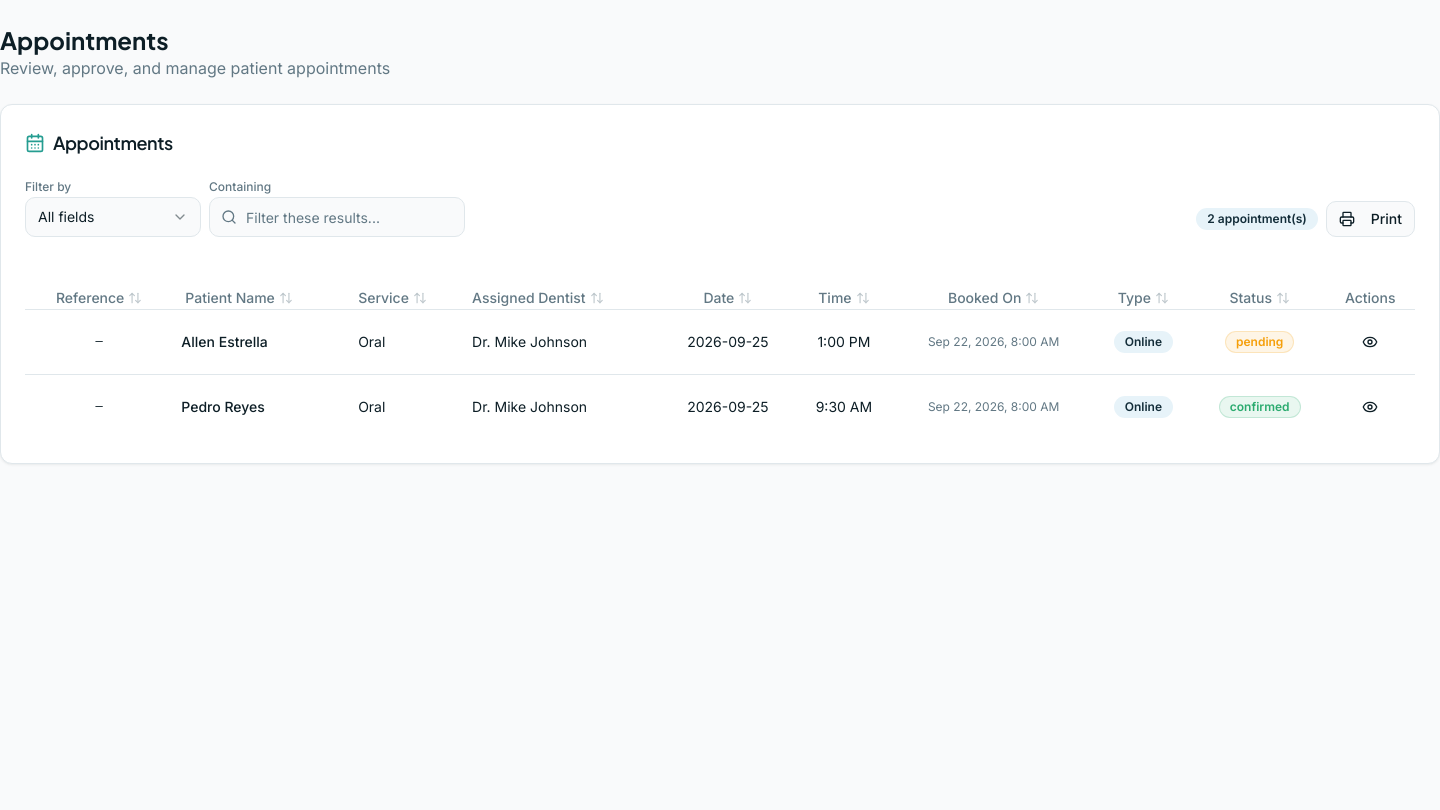
it: admin approve / reject › offers Confirm and Reject inside the View dialog of a pending booking
This screenshot has width=1440, height=810.
Expected: the text "Allen Estrella" is shown, [173,309,350,374]
Click the button named "View" in the row of "Allen Estrella". click: (1370, 342)
box: [1354,326,1386,358]
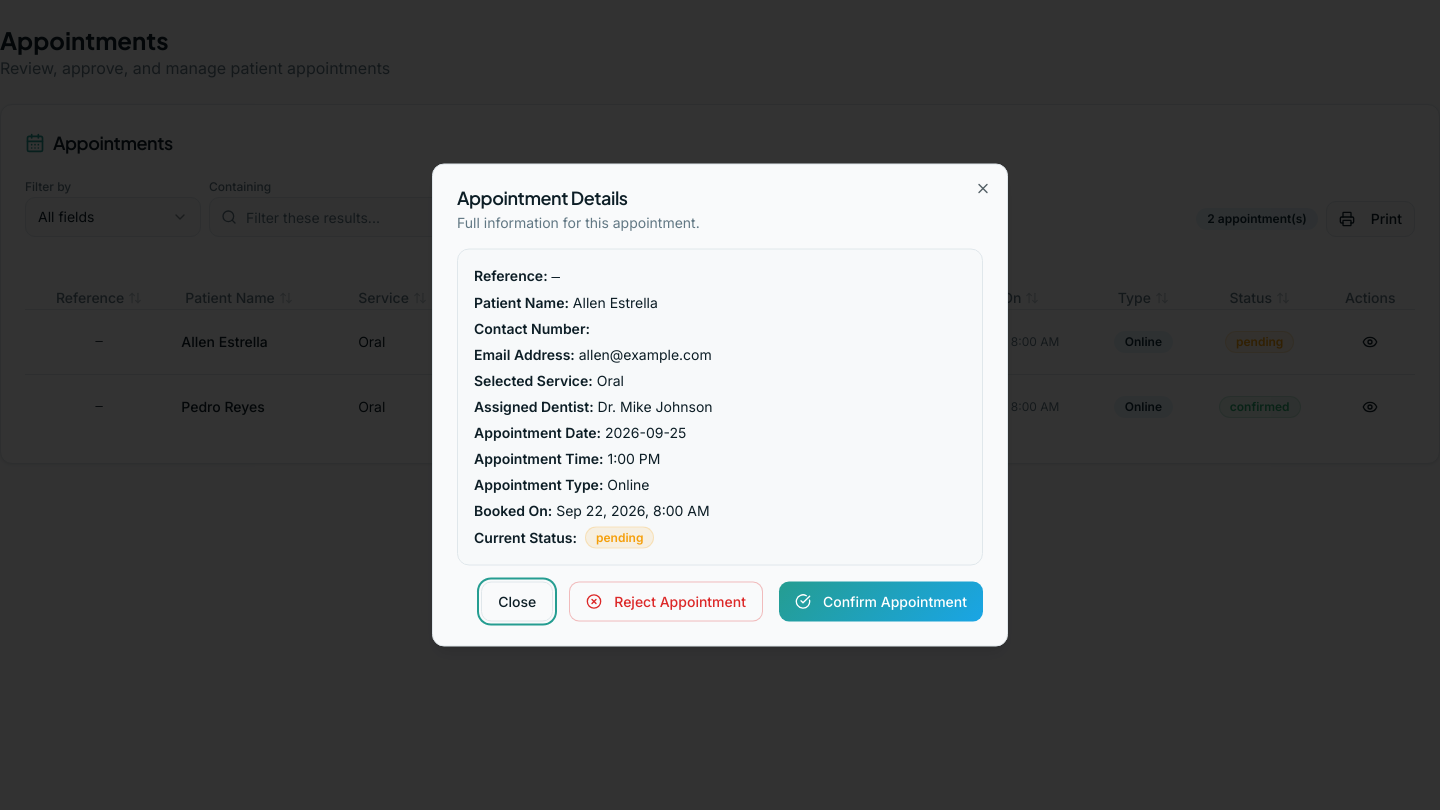
Expected: the button "Confirm Appointment" is shown, [779,582,983,622]
Expected: the button "Reject Appointment" is shown, [569,582,763,622]
